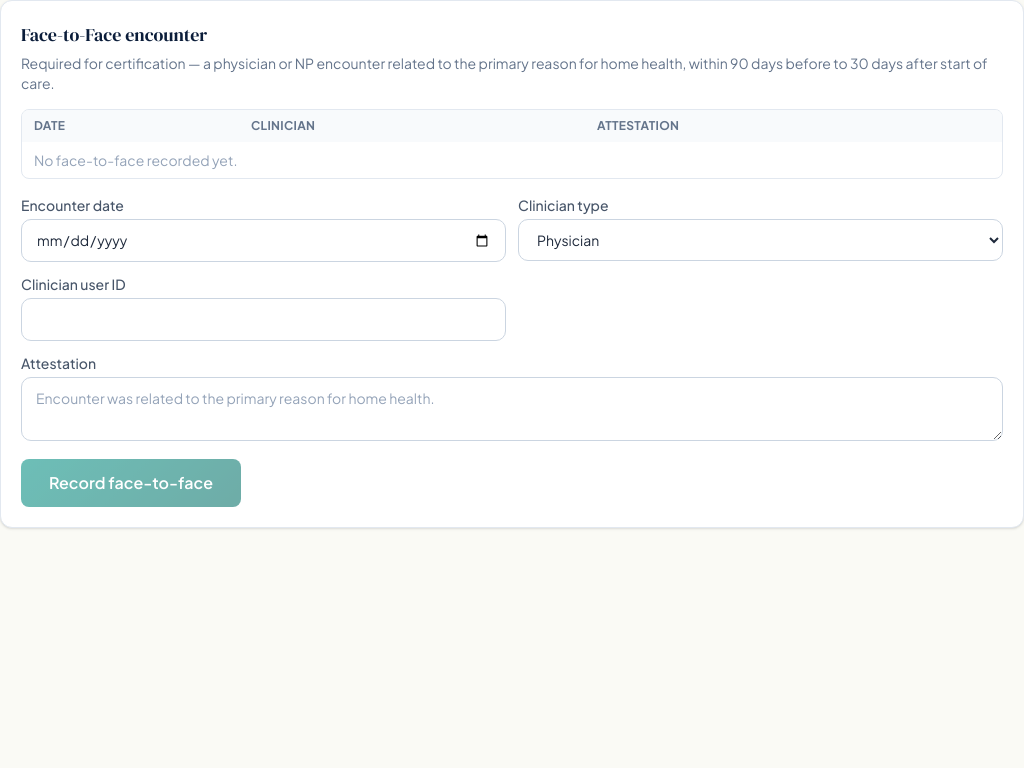
Test case: HomeHealthFaceToFaceSection › shows the empty state and records a face-to-face
The width and height of the screenshot is (1024, 768).
expect the cell with test id "hh-ftf-empty" is shown: met, box [22,142,1002,178]
In the date field with test id "hh-ftf-date": [264, 240] box [21,219,506,262], type "2026-06-20"
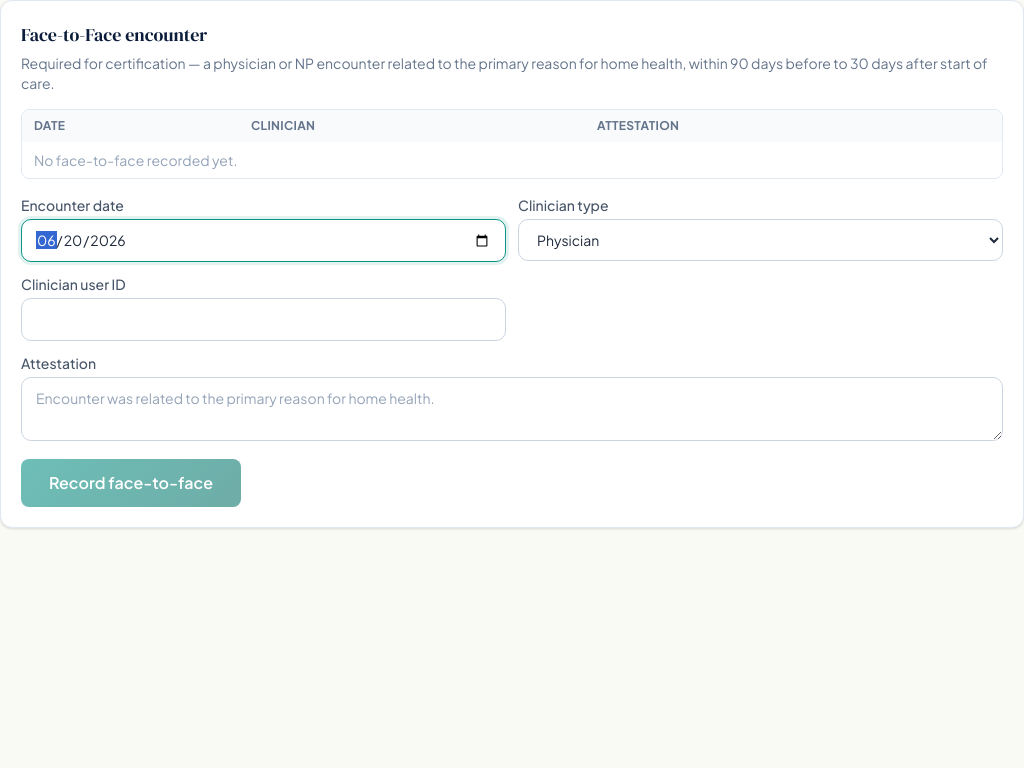
In the number field with test id "hh-ftf-clinician": [264, 320] box [21,298,506,341], type "7"
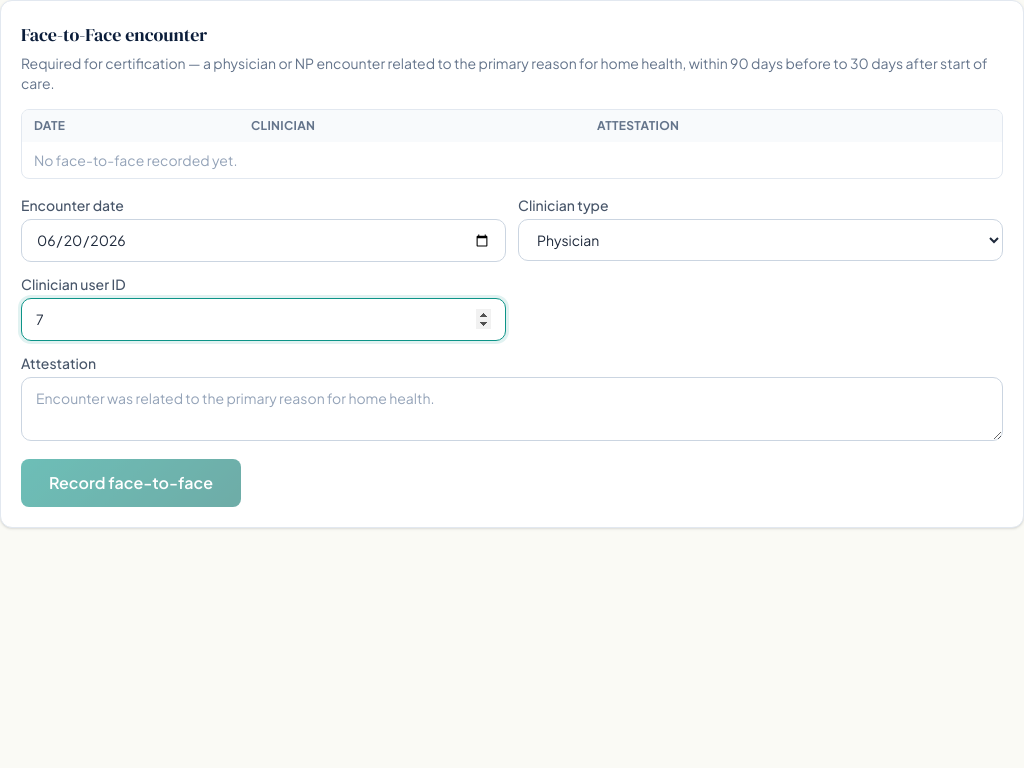
In the text box with test id "hh-ftf-attestation": [512, 409] box [21,377,1003,441], type "Related."
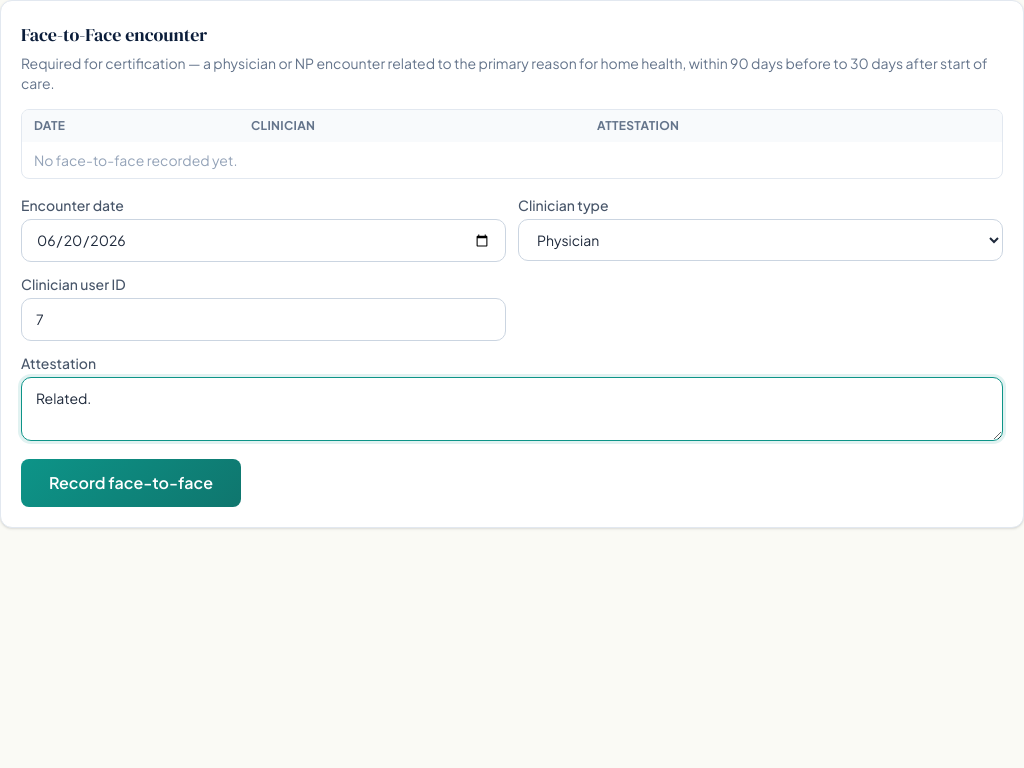
Click the button with test id "hh-ftf-submit": [131, 483] box [21,459,241,507]
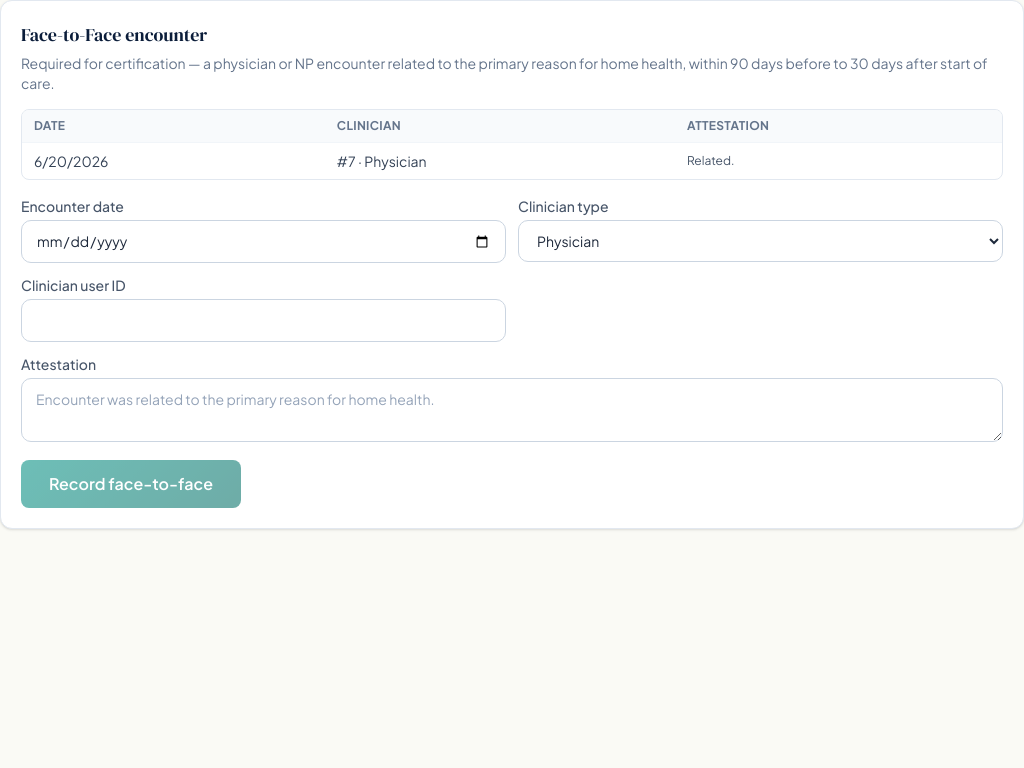
expect the row with test id "hh-ftf-1" is shown: met, box [22,142,1002,179]
